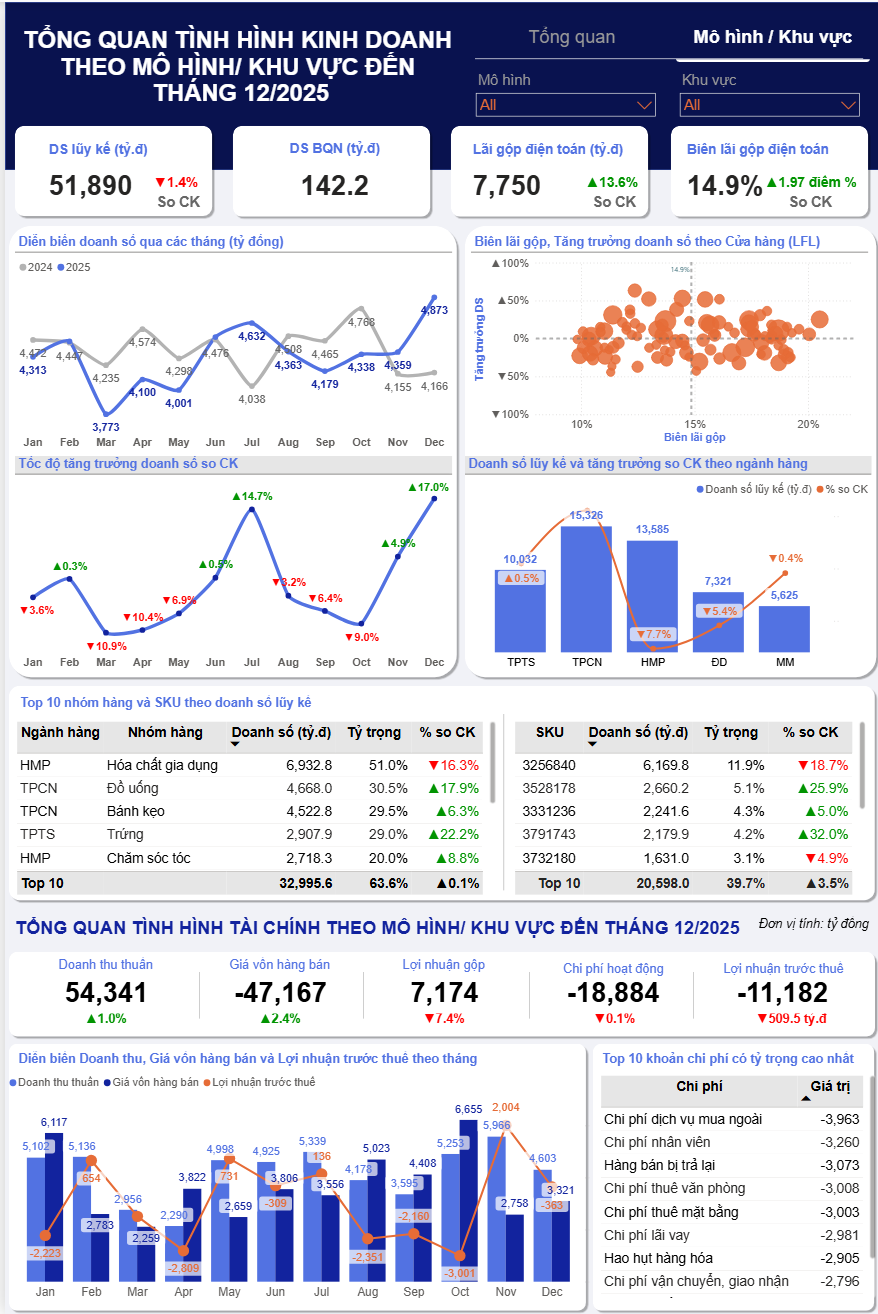

The dashboard page shown, as its layout file describes it:
{"tool":"powerbi","page":{"name":"Mô hình / Khu vực","canvas":[1280,1920],"ordinal":1},"visuals":[{"type":"shape","box":[0,995,1278.3,325],"z":0},{"type":"shape","box":[0,1518.6,855.7,401.4],"z":0,"group":"g1"},{"type":"shape","box":[0,0,1280,246],"z":1000},{"type":"shape","box":[855.7,1518.6,422.9,401.4],"z":2000},{"type":"shape","box":[647.7,175.7,300,144],"z":3000},{"type":"shape","box":[327.7,175.7,300,144],"z":4000},{"type":"shape","box":[967.7,175.7,300,144],"z":5000},{"type":"lineClusteredColumnComboChart","fields":{"Category":["Calendar.Month Short"],"Y":["Measure.Doanh thu thuần_montly","Measure.Giá vốn hàng bán_Montly"],"Y2":["Measure.Lợi nhuận trước thuế (EBT)_Monthly"]},"box":[0,1561,891.4,345.7],"z":5000,"group":"g1"},{"type":"shape","box":[7.7,176.6,300,143.1],"z":6000},{"type":"shape","box":[0,1383.6,1278.8,135],"z":7000},{"type":"shape","box":[0,323.3,666.7,671.7],"z":8000},{"type":"shape","box":[666.7,323.3,613.3,671.7],"z":9000},{"type":"card","fields":{"Values":["Measure.% Tăng trưởng Giá vốn hàng bán_card"]},"box":[355.3,1476.1,96,28.4],"z":10000},{"type":"card","fields":{"Values":["Measure.% Tăng trưởng Doanh thu thuần_card"]},"box":[99.3,1476.1,96,28.4],"z":11000},{"type":"card","fields":{"Values":["Measure.% Tăng trưởng Chi phí hoạt động_card"]},"box":[839.9,1476.1,102.9,28.4],"z":12000},{"type":"card","fields":{"Values":["Measure.% Tăng trưởng Lợi nhuận gộp_card"]},"box":[595.3,1476.1,96,28.4],"z":13000},{"type":"card","fields":{"Values":["Measure.% Tăng trưởng Lợi nhuận trước thuế_card"]},"box":[1091.2,1476.2,117.5,28.8],"z":14000},{"type":"group","id":"g1","title":"Group 3","box":[0,1518.6,891.4,401.4],"z":15000},{"type":"textbox","box":[323.3,1394.6,160,42.7],"z":16000},{"type":"textbox","box":[868,1530,412,36],"z":17000},{"type":"textbox","box":[67.3,1394.6,160,42.7],"z":18000},{"type":"lineChart","title":"Tốc độ tăng trưởng doanh số so CK","fields":{"Category":["DimMonth.MonthShort"],"Series":["DimMonth.Year"],"Y":["_measures.Tốc độ tăng trưởng doanh số so CK CBL CBL"]},"box":[13.3,664,640,318.3],"z":19000},{"type":"textbox","box":[788.5,1397.9,205.7,42.7],"z":20000},{"type":"textbox","box":[563.3,1394.6,160,42.7],"z":21000},{"type":"textbox","box":[14.1,1530,783.4,53.3],"z":21000,"group":"g1"},{"type":"textbox","box":[18,1010,1240,36],"z":22000},{"type":"textbox","box":[1027.3,1397.9,224,42.7],"z":23000},{"type":"card","fields":{"Values":["Measure.Doanh thu thuần_TY"]},"box":[51.3,1419.2,192,56.9],"z":24000},{"type":"card","fields":{"Values":["Measure.Giá vốn hàng bán_TY"]},"box":[307.3,1419.2,192,56.9],"z":25000},{"type":"card","fields":{"Values":["Measure.Chi phí hoạt động_TY"]},"box":[788.5,1419.2,205.7,56.9],"z":26000},{"type":"card","fields":{"Values":["Measure.Lợi nhuận gộp_TY"]},"box":[547.3,1419.2,192,56.9],"z":27000},{"type":"card","fields":{"Values":["Measure.Lợi nhuận trước thuế (EBT)_TY"]},"box":[1043.3,1419.2,192,56.9],"z":28000},{"type":"cardVisual","fields":{"Data":["_measures.DS CBL BQN"]},"box":[335.5,185.8,292.9,127.1],"z":29000},{"type":"cardVisual","fields":{"Data":["_measures.YTD_Lãi gộp_DS_Total"]},"box":[968.4,184.4,311.4,128.6],"z":30000},{"type":"group","id":"g2","title":"Group 7","box":[170.4,229.9,160,93.3],"z":31000},{"type":"textbox","box":[1098.3,1330.2,180,48.3],"z":32000},{"type":"cardVisual","fields":{"Data":["_measures.YTD_Lãi gộp_CBL (tỷ.đ)"]},"box":[655.5,182.9,304.3,128.6],"z":33000},{"type":"tableEx","fields":{"Values":["DimSubAccount.Diễn giải tiểu khoản","DimPL.Giá trị P&L_TY"]},"box":[867.1,1565.7,412.9,335.7],"z":34000},{"type":"cardVisual","fields":{"Data":["_measures.YTD_DS_CBL (tỷ.đ)"]},"box":[35.5,182.9,248,128],"z":35000},{"type":"scatterChart","title":"Biên lãi gộp, Tăng trưởng doanh số theo Cửa hàng (LFL)","fields":{"Category":["dim_store.Store ID"],"Size":["_measures.YTD_DS_CBL (tỷ.đ)"],"X":["_measures.YTD_Biên lãi gộp_CBL"],"Y":["_measures.YTD_TT_DS_CBL"]},"box":[681.7,338.3,581.7,310],"z":36000},{"type":"cardVisual","fields":{"Data":["_measures.YTD_Lãi gộp_TT"]},"box":[807.8,230.6,160,64],"z":37000},{"type":"cardVisual","fields":{"Data":["_measures.YTD_Biên lãi gộp_TT (Text)"]},"box":[1081.2,231.5,198.6,64.3],"z":38000},{"type":"tableEx","fields":{"Values":["dim_sku.Ngành hàng","dim_sku.Nhóm hàng","_measures.YTD_DS_CBL (tỷ.đ)","_measures.Tỷ trọng DS nhóm hàng","_measures.YTD_TT_DS_CBL"]},"box":[11.7,1047.6,711.7,263.3],"z":39000},{"type":"textbox","box":[855.8,274.6,80,48],"z":40000},{"type":"textbox","box":[1140.2,276.1,87.3,40],"z":41000},{"type":"cardVisual","fields":{"Data":["_measures.YTD_TT_DS_CBL"]},"box":[170.4,229.9,160,64],"z":42000,"group":"g2"},{"type":"card","fields":{"Values":["Measure.Tiêu đề Tổng quan"]},"box":[0,1323.6,1090,63.3],"z":42000},{"type":"textbox","box":[216.4,275.2,80,48],"z":43000,"group":"g2"},{"type":"lineClusteredColumnComboChart","title":"Doanh số lũy kế và tăng trưởng so CK  theo ngành hàng","fields":{"Category":["dim_sku.Ngành hàng"],"Y":["_measures.YTD_DS_CBL (tỷ.đ)"],"Y2":["_measures.YTD_TT_DS_CBL"]},"box":[673.3,664,595,318.3],"z":43000},{"type":"lineChart","title":"Diễn biến doanh số qua các tháng (tỷ đồng)","fields":{"Category":["DimMonth.MonthShort"],"Series":["DimMonth.Year"],"Y":["_measures.DS CBL (tỷ.đ)"]},"box":[15,338.3,640,321.7],"z":45000},{"type":"shape","box":[227.5,1419.8,112.9,68.6],"z":46000},{"type":"shape","box":[469.2,1419.8,112.9,68.6],"z":47000},{"type":"shape","box":[710.8,1419.8,112.9,68.6],"z":48000},{"type":"shape","box":[952.5,1419.8,112.9,68.6],"z":49000},{"type":"card","fields":{"Values":["Measure.Tiêu đề CHUỖI_KD"]},"box":[18.3,13.3,655,148.3],"z":51000},{"type":"shape","box":[688.3,10,568.3,148.3],"z":52000},{"type":"pageNavigator","box":[688.3,13.3,578.3,73.3],"z":53000},{"type":"shape","box":[673.3,1041.7,113.3,258.3],"z":54000},{"type":"tableEx","fields":{"Values":["dim_sku.SKU","_measures.YTD_DS_CBL (tỷ.đ)","_measures.Tỷ trọng DS SKU","_measures.YTD_TT_DS_CBL"]},"box":[740,1047.6,523.3,263.3],"z":55000},{"type":"slicer","fields":{"Values":["DimConcept.Concept"]},"box":[679.2,95.8,283.3,80],"z":55500},{"type":"slicer","fields":{"Values":["DimArea.Area"]},"box":[977.6,95.8,283.3,80],"z":56000}]}

Visuals, with their boxes in screenshot pixels (x1, y1, x2, y2), scaled from the page's 1280x1920 canvas onto the 878x1314 screenshot:
shape: rect(0, 681, 877, 903)
shape: rect(0, 1039, 587, 1313)
shape: rect(0, 0, 877, 168)
shape: rect(587, 1039, 877, 1313)
shape: rect(444, 120, 650, 219)
shape: rect(225, 120, 431, 219)
shape: rect(664, 120, 870, 219)
lineClusteredColumnComboChart - Calendar.Month Short x Measure.Doanh thu thuần_montly: rect(0, 1068, 611, 1305)
shape: rect(5, 121, 211, 219)
shape: rect(0, 947, 877, 1039)
shape: rect(0, 221, 457, 681)
shape: rect(457, 221, 877, 681)
card - Measure.% Tăng trưởng Giá vốn hàng bán_card: rect(244, 1010, 310, 1030)
card - Measure.% Tăng trưởng Doanh thu thuần_card: rect(68, 1010, 134, 1030)
card - Measure.% Tăng trưởng Chi phí hoạt động_card: rect(576, 1010, 647, 1030)
card - Measure.% Tăng trưởng Lợi nhuận gộp_card: rect(408, 1010, 474, 1030)
card - Measure.% Tăng trưởng Lợi nhuận trước thuế_card: rect(748, 1010, 829, 1030)
"Group 3" group: rect(0, 1039, 611, 1313)
textbox: rect(222, 954, 332, 984)
textbox: rect(595, 1047, 877, 1072)
textbox: rect(46, 954, 156, 984)
"Tốc độ tăng trưởng doanh số so CK" lineChart: rect(9, 454, 448, 672)
textbox: rect(541, 957, 682, 986)
textbox: rect(386, 954, 496, 984)
textbox: rect(10, 1047, 547, 1084)
textbox: rect(12, 691, 863, 716)
textbox: rect(705, 957, 858, 986)
card - Measure.Doanh thu thuần_TY: rect(35, 971, 167, 1010)
card - Measure.Giá vốn hàng bán_TY: rect(211, 971, 342, 1010)
card - Measure.Chi phí hoạt động_TY: rect(541, 971, 682, 1010)
card - Measure.Lợi nhuận gộp_TY: rect(375, 971, 507, 1010)
card - Measure.Lợi nhuận trước thuế (EBT)_TY: rect(716, 971, 847, 1010)
cardVisual - _measures.DS CBL BQN: rect(230, 127, 431, 214)
cardVisual - _measures.YTD_Lãi gộp_DS_Total: rect(664, 126, 877, 214)
"Group 7" group: rect(117, 157, 227, 221)
textbox: rect(753, 910, 877, 943)
cardVisual - _measures.YTD_Lãi gộp_CBL (tỷ.đ): rect(450, 125, 658, 213)
tableEx - DimSubAccount.Diễn giải tiểu khoản x DimPL.Giá trị P&L_TY: rect(595, 1072, 877, 1301)
cardVisual - _measures.YTD_DS_CBL (tỷ.đ): rect(24, 125, 194, 213)
"Biên lãi gộp, Tăng trưởng doanh số theo Cửa hàng (LFL)" scatterChart: rect(468, 232, 867, 444)
cardVisual - _measures.YTD_Lãi gộp_TT: rect(554, 158, 664, 202)
cardVisual - _measures.YTD_Biên lãi gộp_TT (Text): rect(742, 158, 877, 202)
tableEx - dim_sku.Ngành hàng x dim_sku.Nhóm hàng: rect(8, 717, 496, 897)
textbox: rect(587, 188, 642, 221)
textbox: rect(782, 189, 842, 216)
cardVisual - _measures.YTD_TT_DS_CBL: rect(117, 157, 227, 201)
card - Measure.Tiêu đề Tổng quan: rect(0, 906, 748, 949)
textbox: rect(148, 188, 203, 221)
"Doanh số lũy kế và tăng trưởng so CK  theo ngành hàng" lineClusteredColumnComboChart: rect(462, 454, 870, 672)
"Diễn biến doanh số qua các tháng (tỷ đồng)" lineChart: rect(10, 232, 449, 452)
shape: rect(156, 972, 233, 1019)
shape: rect(322, 972, 399, 1019)
shape: rect(488, 972, 565, 1019)
shape: rect(653, 972, 731, 1019)
card - Measure.Tiêu đề CHUỖI_KD: rect(13, 9, 462, 111)
shape: rect(472, 7, 862, 108)
pageNavigator: rect(472, 9, 869, 59)
shape: rect(462, 713, 540, 890)
tableEx - dim_sku.SKU x _measures.YTD_DS_CBL (tỷ.đ): rect(508, 717, 867, 897)
slicer - DimConcept.Concept: rect(466, 66, 660, 120)
slicer - DimArea.Area: rect(671, 66, 865, 120)
